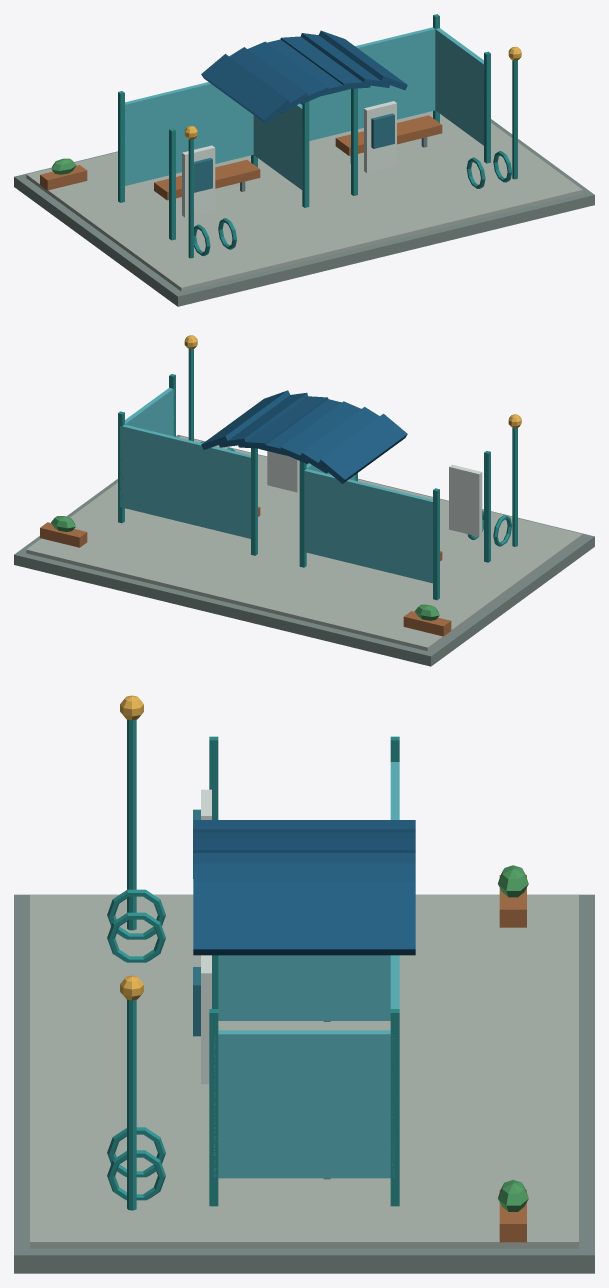
The model's file is bus_stop_lv3.glb.
The picture shows the model from 3 angles, top to bottom: view 1: azimuth 30°, elevation 25°; view 2: azimuth 150°, elevation 25°; view 3: azimuth 270°, elevation 25°; orthographic projection. The views are drawn at different scales.
Parts seen in each view (by area): view 1: concrete, glass, solar, pavement, teal, wood, white, glassDark; view 2: concrete, glass, solar, pavement, teal, white, wood, green; view 3: concrete, glass, solar, pavement, teal, wood, white, green, gold.
Part boxes in pixels (left/top/right/bottom): concrete: left=26, top=111, right=582, bottom=291; glass: left=125, top=27, right=484, bottom=190; solar: left=201, top=30, right=407, bottom=123; pavement: left=14, top=119, right=594, bottom=306; teal: left=118, top=14, right=517, bottom=258; wood: left=40, top=115, right=442, bottom=200; white: left=182, top=101, right=396, bottom=217; glassDark: left=194, top=113, right=394, bottom=192; concrete: left=26, top=436, right=582, bottom=651; glass: left=120, top=388, right=434, bottom=583; solar: left=201, top=390, right=407, bottom=483; pavement: left=14, top=435, right=594, bottom=666; teal: left=118, top=349, right=517, bottom=600; white: left=267, top=451, right=482, bottom=536; wood: left=40, top=506, right=451, bottom=636; green: left=51, top=516, right=439, bottom=620; concrete: left=30, top=895, right=578, bottom=1248; glass: left=213, top=762, right=399, bottom=1178; solar: left=193, top=820, right=415, bottom=955; pavement: left=14, top=894, right=594, bottom=1273; teal: left=107, top=719, right=399, bottom=1210; wood: left=499, top=875, right=526, bottom=1242; white: left=201, top=789, right=211, bottom=1084; green: left=498, top=865, right=528, bottom=1211; gold: left=120, top=695, right=143, bottom=1000.
Size of the model in its own units: 9.4 by 3.12 by 6.4.
